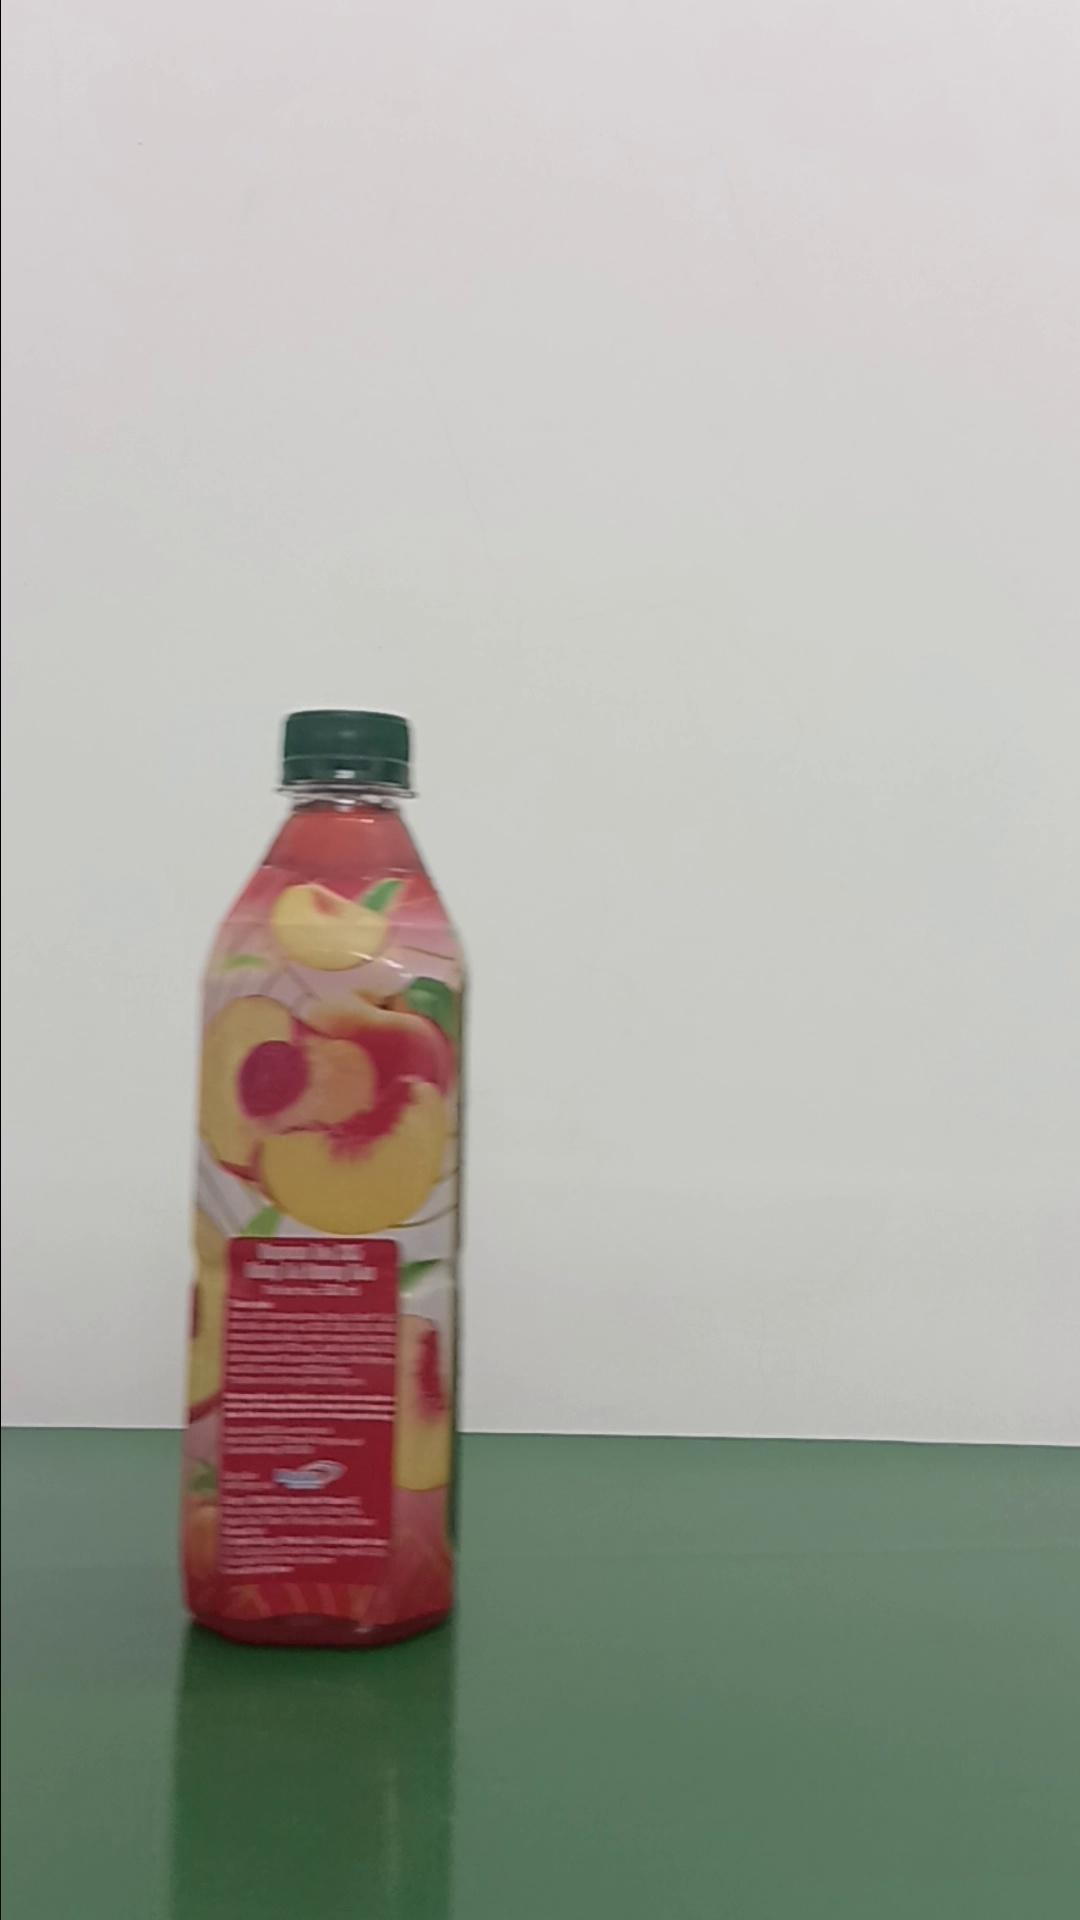khong loi: (175, 705, 468, 1648)
